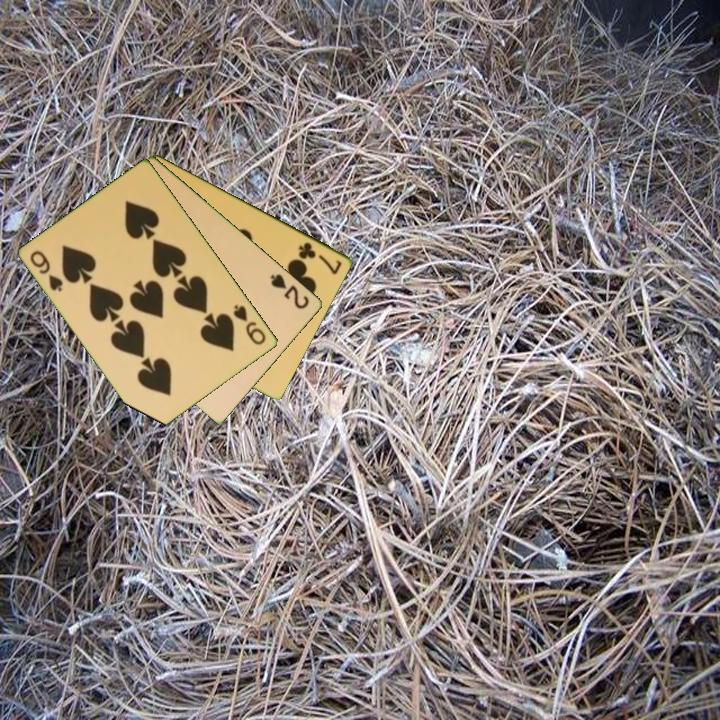2s: (267, 270, 312, 312)
7c: (295, 238, 345, 277)
9s: (230, 301, 269, 348), (27, 247, 66, 294)
